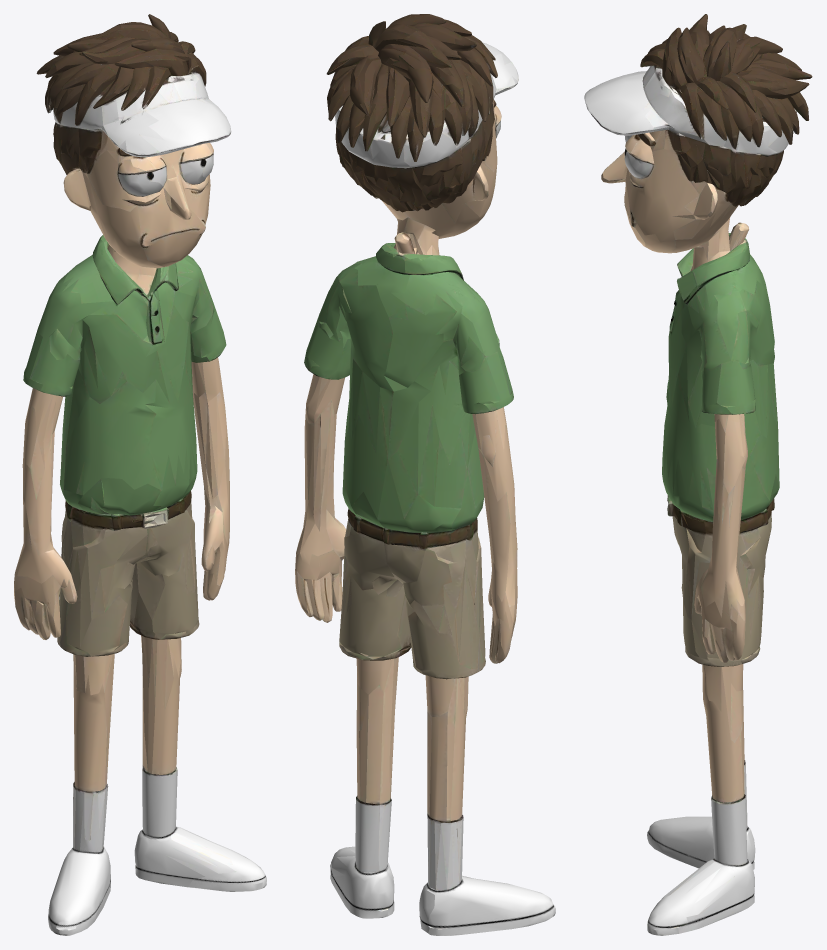
File: jerry-golf.glb
3 renders of one model, left to right at view 1: azimuth 30°, elevation 25°; view 2: azimuth 150°, elevation 25°; view 3: azimuth 270°, elevation 25°, orthographic. The views are drawn at different scales.
Bounding box in the file's own units: 0.4865 × 1.9 × 0.4591.
1 material, 1 textured.
